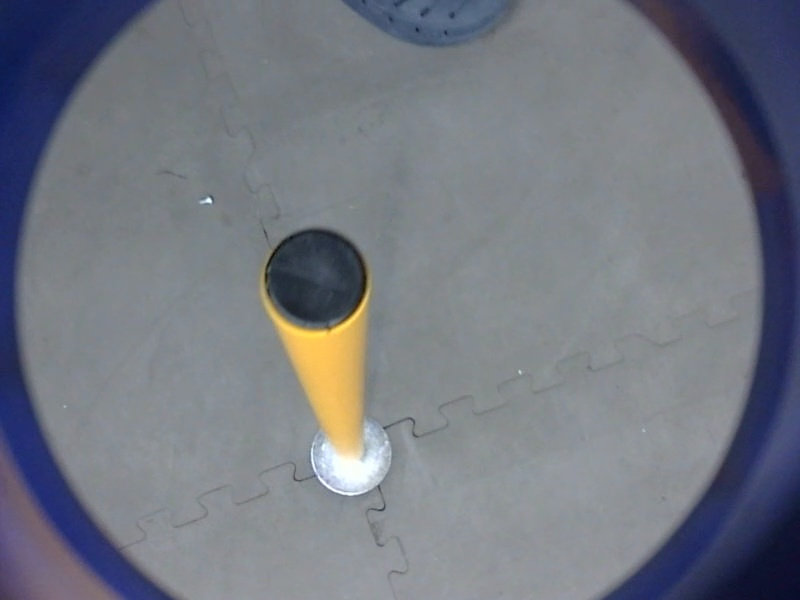tip: (254, 223, 377, 339)
